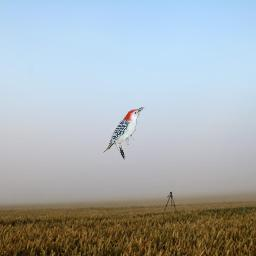Woodpecker: (103, 107, 145, 161)
